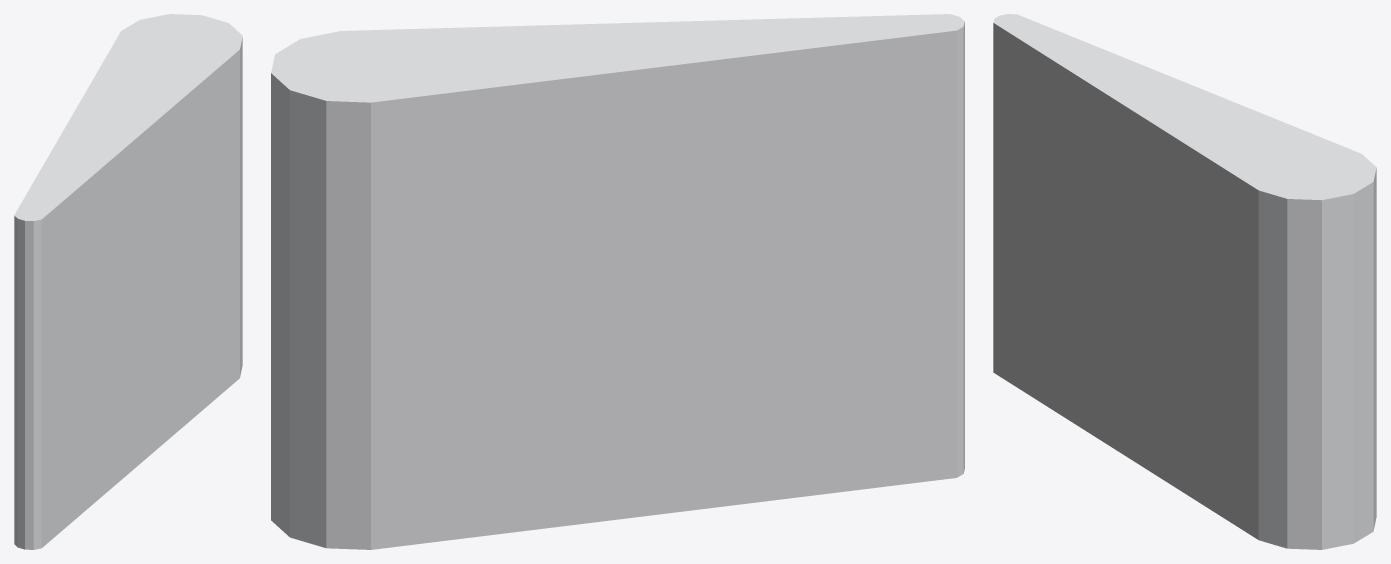
File: r_flipper.obj
The picture shows the model from 3 angles, left to right: view 1: azimuth 30°, elevation 25°; view 2: azimuth 150°, elevation 25°; view 3: azimuth 270°, elevation 25°; orthographic projection. The views are drawn at different scales.
Visible parts, largest first — view 1: Circle.002_Circle.003; view 2: Circle.002_Circle.003; view 3: Circle.002_Circle.003.
Boxes of the visible parts, x1=… form: Circle.002_Circle.003: x1=14, y1=14, x2=242, y2=549; Circle.002_Circle.003: x1=271, y1=14, x2=964, y2=549; Circle.002_Circle.003: x1=993, y1=14, x2=1376, y2=549.
Bounding box in the file's own units: 0.9996 × 0.8756 × 0.8694.
Materials: 1 (1 with a texture image).
